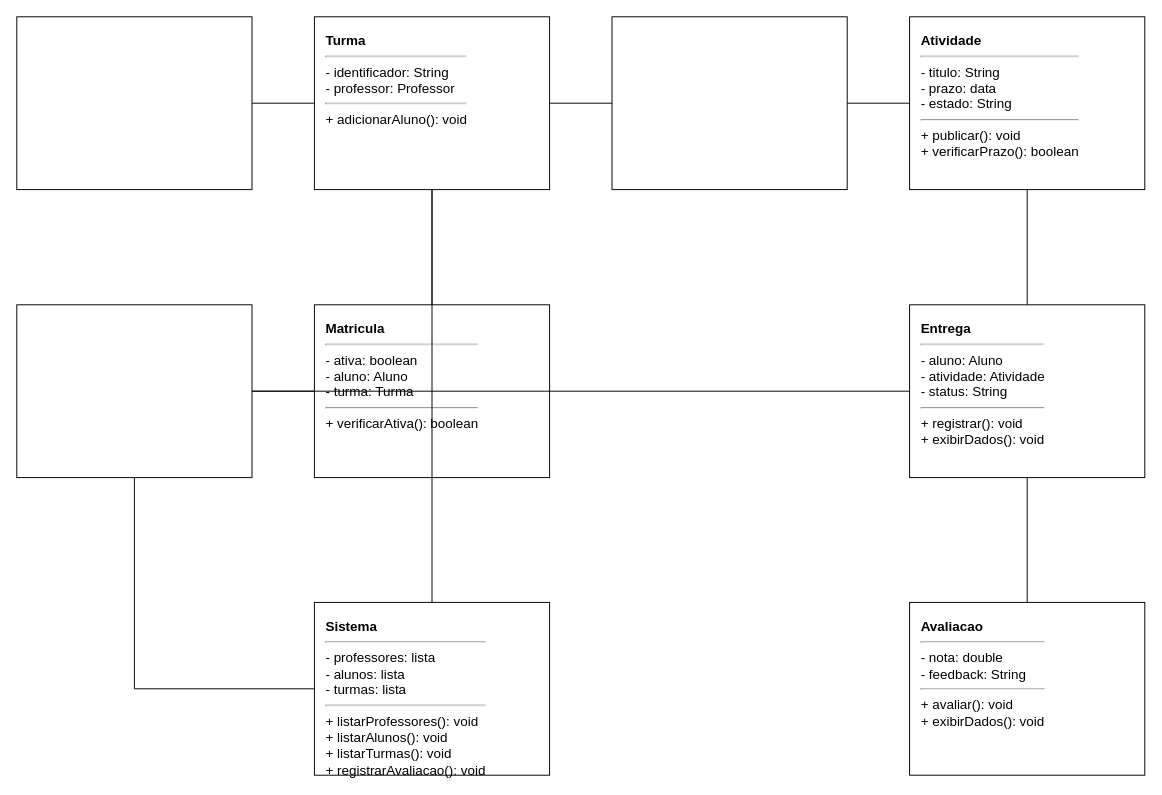
Some shapes in this 1162 by 795 pixel diagram are drawn without their labels. Here are the shapes that lost their labels. From the top down, the centre of each, then its label:
At pixel 134 103: "Professor - id: int - nome: String - email: String + exibirDados(): void".
At pixel 729 103: "Disciplina - nome: String - codigo: String + exibirDados(): void".
At pixel 134 391: "Aluno - id: int - nome: String - email: String + exibirDados(): void".
